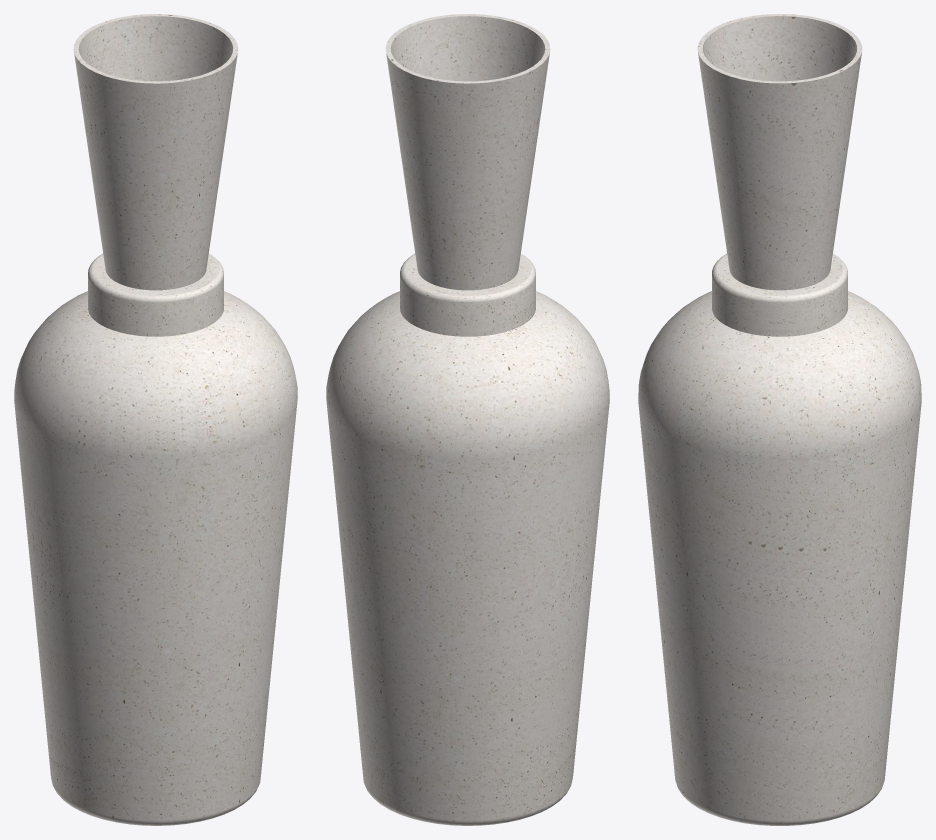
Rendered from decor_vase_tall.glb.
The picture shows the model from 3 angles, left to right: view 1: azimuth 30°, elevation 25°; view 2: azimuth 150°, elevation 25°; view 3: azimuth 270°, elevation 25°; orthographic projection.
Visible parts, largest first — view 1: Geom3D; view 2: Geom3D; view 3: Geom3D.
Part boxes in pixels (x1=…): Geom3D: x1=14, y1=14, x2=297, y2=825; Geom3D: x1=326, y1=14, x2=609, y2=825; Geom3D: x1=638, y1=14, x2=921, y2=825.
Size of the model in its own units: 0.1778 by 0.5104 by 0.1778.
Materials: 1 (1 with a texture image).
